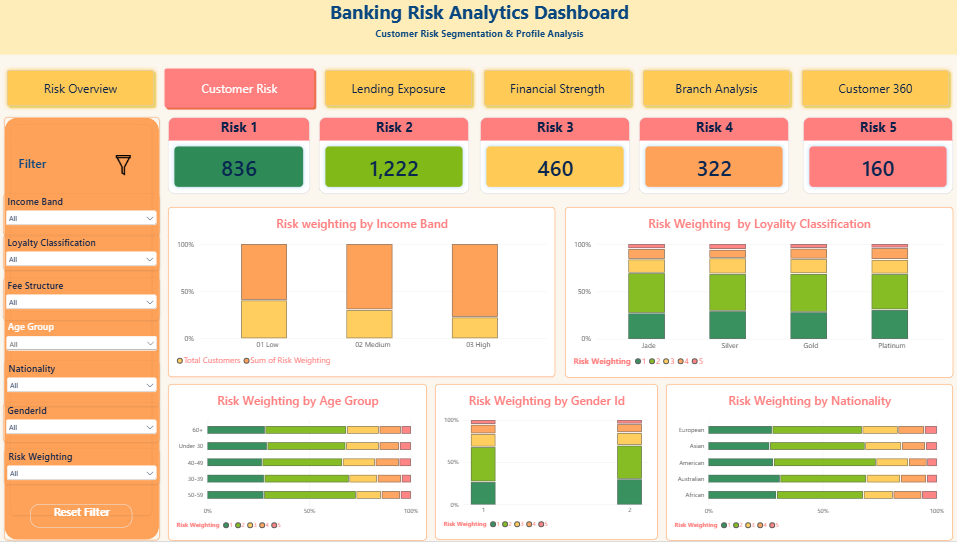

The page's visual inventory and layout, read from the dashboard file:
{"tool":"powerbi","page":{"name":"Customer Risk","canvas":[1920,1080],"ordinal":1},"visuals":[{"type":"shape","box":[0,0,1920,110.9],"z":0},{"type":"pageNavigator","box":[9.8,133.5,1894.9,88.4],"z":1000},{"type":"shape","box":[12,236,310,844],"z":2000},{"type":"shape","box":[26,252,280,778],"z":3000},{"type":"slicer","fields":{"Values":["Banking.Income Band"]},"box":[10,388,312,82],"z":4000},{"type":"slicer","fields":{"Values":["Banking.Loyalty Classification"]},"box":[10.3,470.7,311.7,70.2],"z":5000},{"type":"slicer","fields":{"Values":["Banking.Fee Structure"]},"box":[10,556,312,84],"z":6000},{"type":"slicer","fields":{"Values":["Banking.Age Group"]},"box":[12,640,310,82],"z":7000},{"type":"slicer","fields":{"Values":["Banking.Nationality"]},"box":[12,722,310,90],"z":8000},{"type":"slicer","fields":{"Values":["Banking.GenderId"]},"box":[10,806,312,78],"z":9000},{"type":"actionButton","title":"Reset Filter","box":[64,1006,204.4,47.5],"z":10000},{"type":"cardVisual","title":"Risk 1","fields":{"Data":["Measure.Risk 1 Customers"]},"box":[338.6,235.4,282.8,152.8],"z":11000},{"type":"cardVisual","title":"Risk 3","fields":{"Data":["Measure.Risk 3 Customers"]},"box":[960,236,299.4,152.8],"z":12000},{"type":"cardVisual","title":"Risk 4","fields":{"Data":["Measure.Risk 4 Customers"]},"box":[1278,236,299.4,152.8],"z":13000},{"type":"cardVisual","title":"Risk 5","fields":{"Data":["Measure.Risk 5 Customers"]},"box":[1604,236,299.4,152.8],"z":14000},{"type":"textbox","box":[28.9,291.1,274.6,61.9],"z":15000},{"type":"cardVisual","title":"Risk 2","fields":{"Data":["Measure.Risk 2 Customers"]},"box":[640,235.4,299.4,152.8],"z":16000},{"type":"hundredPercentStackedColumnChart","title":"Risk weighting by Income Band","fields":{"Category":["Banking.Income Band Ordered"],"Y":["Measure.Total Customers","Sum(Banking.Risk Weighting)"]},"box":[338.6,415,772.1,338.6],"z":17000},{"type":"hundredPercentStackedColumnChart","title":"Risk Weighting  by Loyality Classification","fields":{"Category":["Banking.Loyalty Classification"],"Series":["Banking.Risk Weighting"],"Y":["Measure.Total Customers"]},"box":[1130,414,774,340],"z":18000},{"type":"hundredPercentStackedBarChart","title":"Risk Weighting by Age Group","fields":{"Category":["Banking.Age Group"],"Series":["Banking.Risk Weighting"],"Y":["Measure.Total Customers"]},"box":[338.6,768,516.1,311.7],"z":19000},{"type":"hundredPercentStackedBarChart","title":"Risk Weighting by Nationality","fields":{"Category":["Banking.Nationality"],"Series":["Banking.Risk Weighting"],"Y":["Measure.Total Customers"]},"box":[1331.6,768,571.9,311.7],"z":20000},{"type":"hundredPercentStackedColumnChart","title":"Risk Weighting by Gender Id","fields":{"Category":["Banking.GenderId"],"Series":["Banking.Risk Weighting"],"Y":["Measure.Total Customers"]},"box":[871.2,768,443.9,310],"z":21000},{"type":"slicer","fields":{"Values":["Banking.Risk Weighting"]},"box":[12,898,310,70],"z":22000},{"type":"image","box":[210.6,311.7,76.4,41.3],"z":23000},{"type":"textbox","box":[0,0,1920,54],"z":24000},{"type":"textbox","box":[0,56,1920,56],"z":25000}]}

Visuals, with their boxes in screenshot pixels (x1, y1, x2, y2), scaled from the page's 1920x1080 canvas onto the 957x542 screenshot:
shape: <bbox>0, 0, 956, 56</bbox>
pageNavigator: <bbox>5, 67, 949, 111</bbox>
shape: <bbox>6, 118, 160, 541</bbox>
shape: <bbox>13, 126, 153, 517</bbox>
slicer - Banking.Income Band: <bbox>5, 195, 160, 236</bbox>
slicer - Banking.Loyalty Classification: <bbox>5, 236, 160, 271</bbox>
slicer - Banking.Fee Structure: <bbox>5, 279, 160, 321</bbox>
slicer - Banking.Age Group: <bbox>6, 321, 160, 362</bbox>
slicer - Banking.Nationality: <bbox>6, 362, 160, 408</bbox>
slicer - Banking.GenderId: <bbox>5, 404, 160, 444</bbox>
"Reset Filter" actionButton: <bbox>32, 505, 134, 529</bbox>
"Risk 1" cardVisual: <bbox>169, 118, 310, 195</bbox>
"Risk 3" cardVisual: <bbox>478, 118, 628, 195</bbox>
"Risk 4" cardVisual: <bbox>637, 118, 786, 195</bbox>
"Risk 5" cardVisual: <bbox>799, 118, 949, 195</bbox>
textbox: <bbox>14, 146, 151, 177</bbox>
"Risk 2" cardVisual: <bbox>319, 118, 468, 195</bbox>
"Risk weighting by Income Band" hundredPercentStackedColumnChart: <bbox>169, 208, 554, 378</bbox>
"Risk Weighting  by Loyality Classification" hundredPercentStackedColumnChart: <bbox>563, 208, 949, 378</bbox>
"Risk Weighting by Age Group" hundredPercentStackedBarChart: <bbox>169, 385, 426, 541</bbox>
"Risk Weighting by Nationality" hundredPercentStackedBarChart: <bbox>664, 385, 949, 541</bbox>
"Risk Weighting by Gender Id" hundredPercentStackedColumnChart: <bbox>434, 385, 655, 541</bbox>
slicer - Banking.Risk Weighting: <bbox>6, 451, 160, 486</bbox>
image: <bbox>105, 156, 143, 177</bbox>
textbox: <bbox>0, 0, 956, 27</bbox>
textbox: <bbox>0, 28, 956, 56</bbox>
